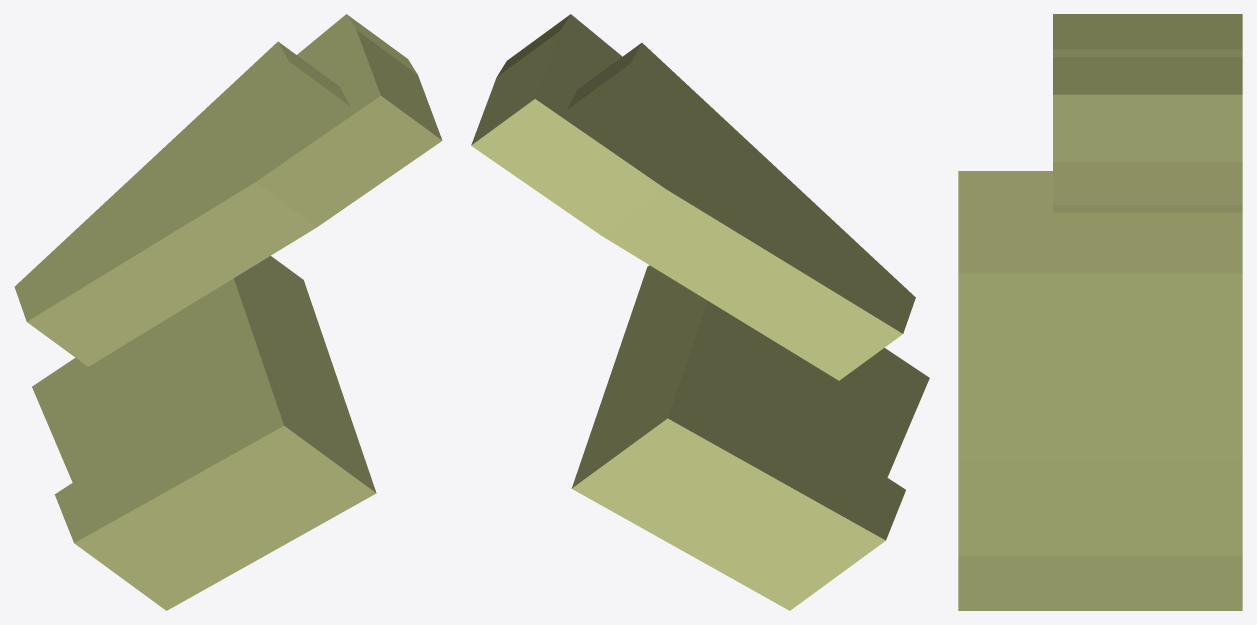
3 renders of one model, left to right at view 1: azimuth 30°, elevation 25°; view 2: azimuth 150°, elevation 25°; view 3: azimuth 270°, elevation 25°, orthographic. The views are drawn at different scales.
Parts seen in each view (by area): view 1: 0_1_0_0_1_0_0_1_2_2; view 2: 0_1_0_0_1_0_0_1_2_2; view 3: 0_1_0_0_1_0_0_1_2_2.
Part boxes in pixels (x1,y1,x2,y2): 0_1_0_0_1_0_0_1_2_2: [14, 14, 442, 610]; 0_1_0_0_1_0_0_1_2_2: [471, 14, 929, 610]; 0_1_0_0_1_0_0_1_2_2: [958, 14, 1242, 610].
Size of the model in its own units: 20.59 by 24.85 by 9.
